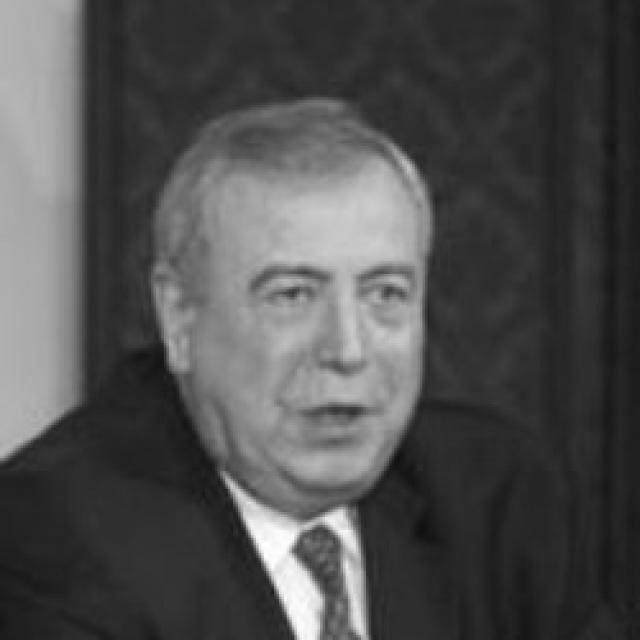real: (164, 102, 440, 504), (242, 251, 425, 322)
